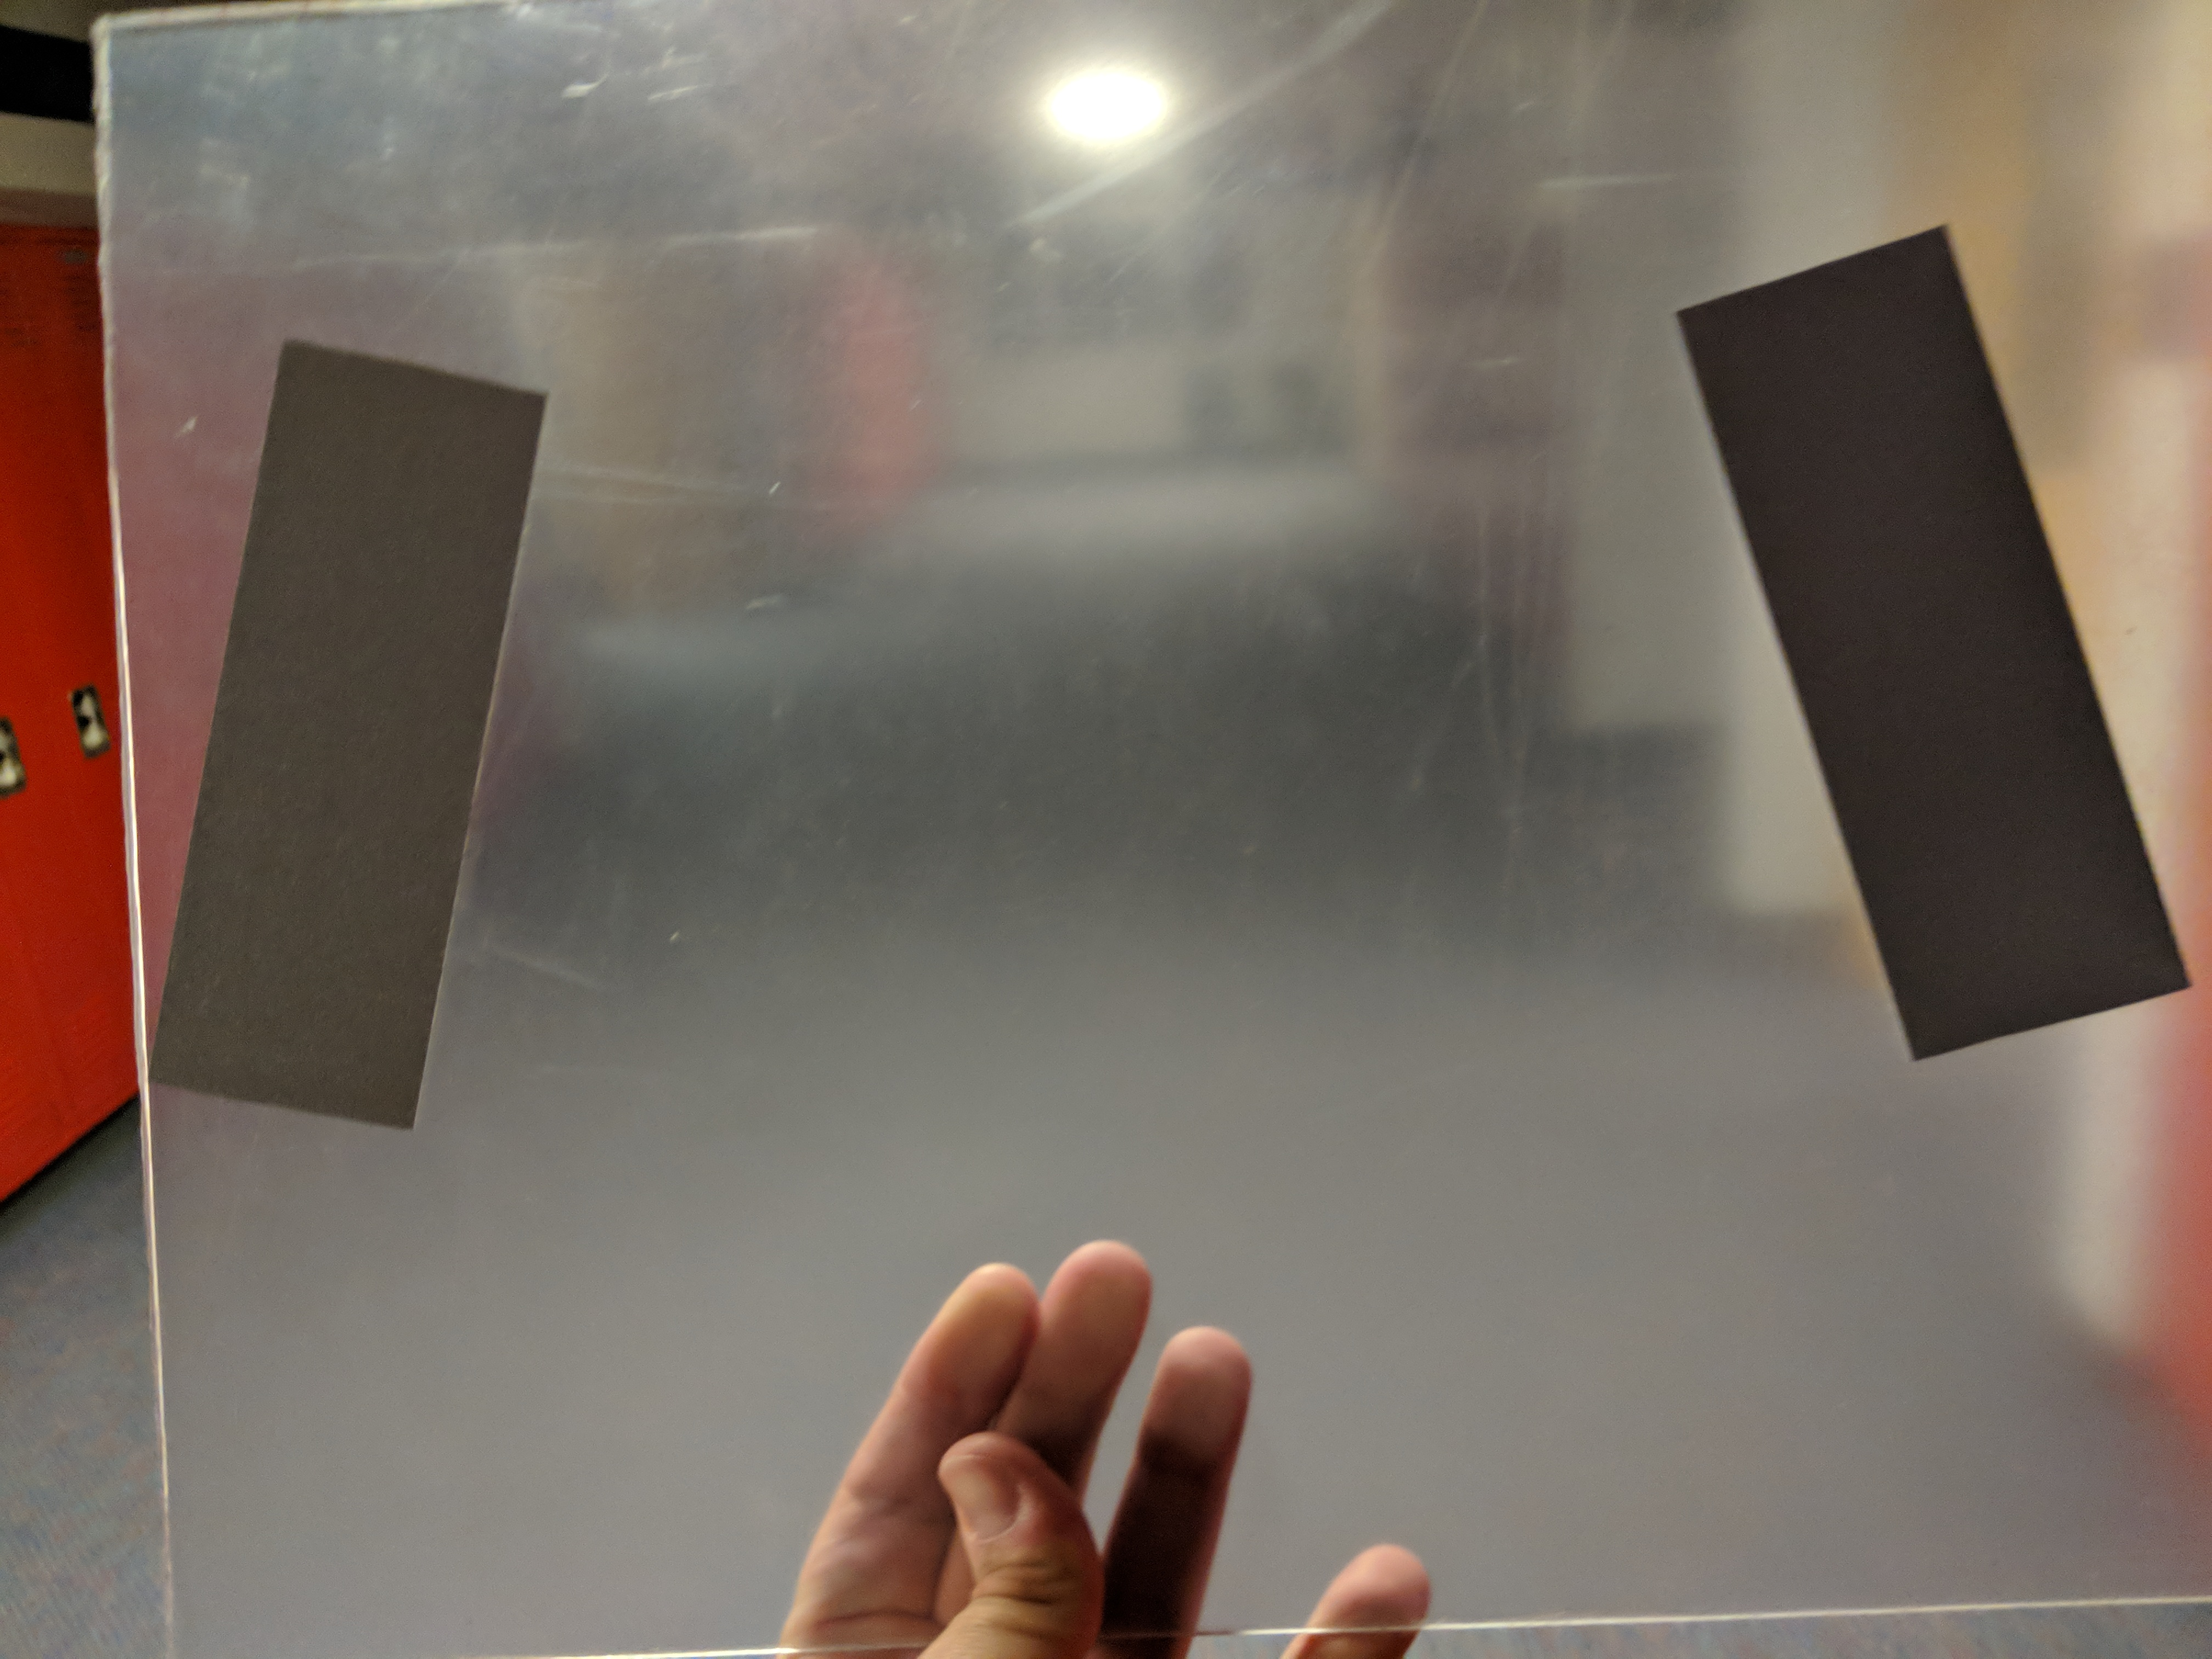vision_target: (148, 216, 2203, 1152)
